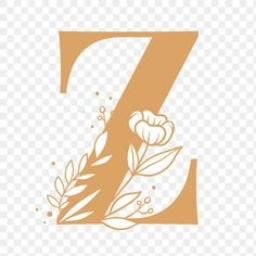z: (44, 16, 210, 234)
